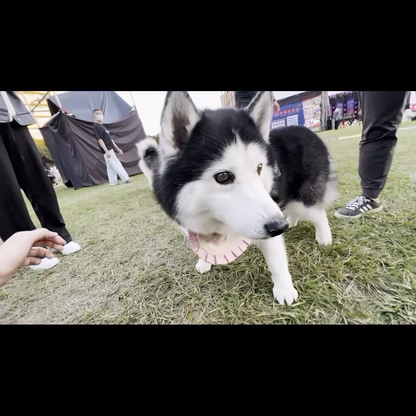husky: (146, 91, 343, 308)
